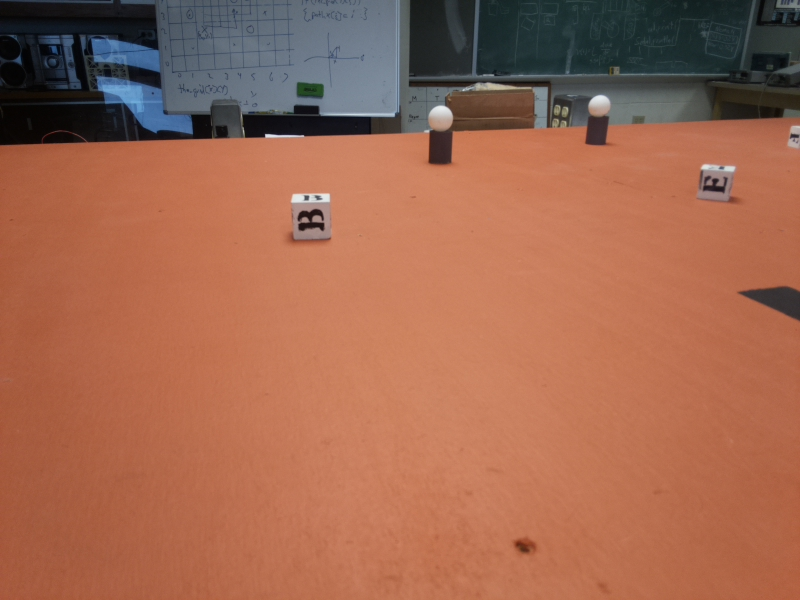blockB: (289, 192, 334, 245)
blockE: (694, 162, 737, 206)
obstacle: (423, 105, 456, 172), (583, 94, 616, 146)
start: (737, 280, 800, 329)
